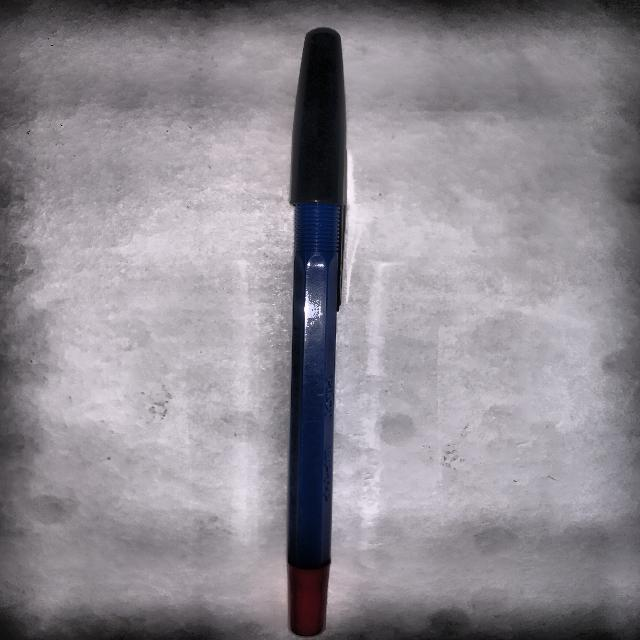Pulpen: (266, 22, 366, 640)
